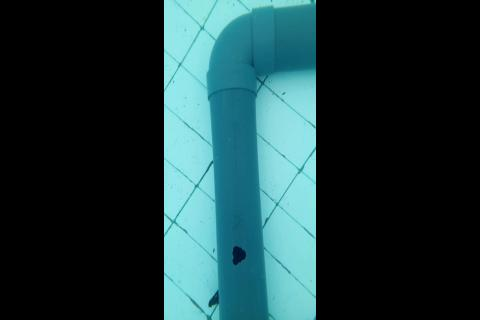kebocoran: (231, 244, 247, 266)
